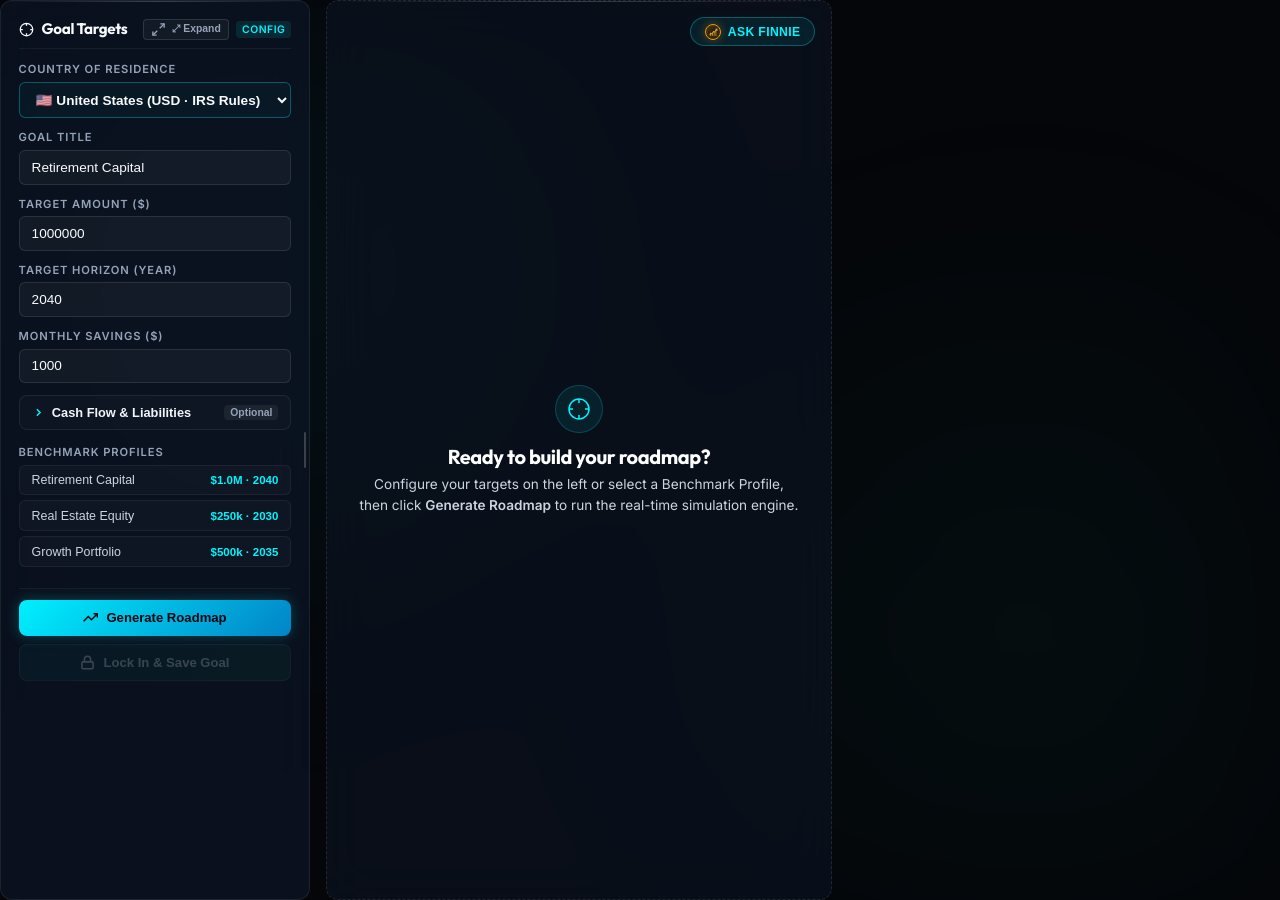
Scenario: GoalPlannerFlow Integration Tests › renders Roadmap, ThoughtStream, Lock-in button, and Micro-Chat upon calculation
The width and height of the screenshot is (1280, 900).
Step 1. Click the button "Generate Roadmap" → (155, 618), box left=19, top=600, right=291, bottom=636
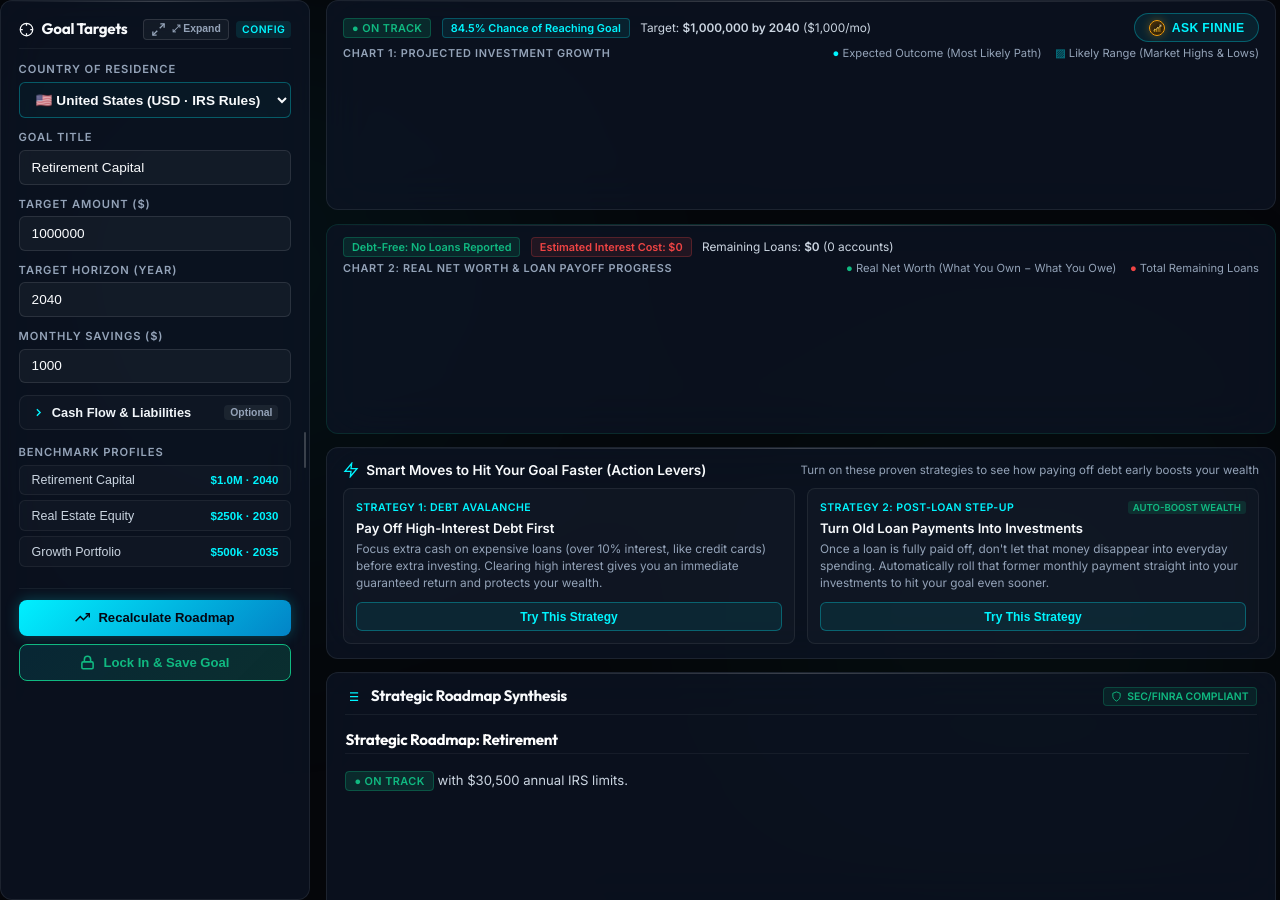
Expected: the button "Lock In & Save Goal" is shown, left=19, top=644, right=291, bottom=681
Note: Open Ask Finnie assistant drawer
Step 2. Click the button "$ Ask Finnie" → (1197, 28), box left=1134, top=13, right=1259, bottom=42
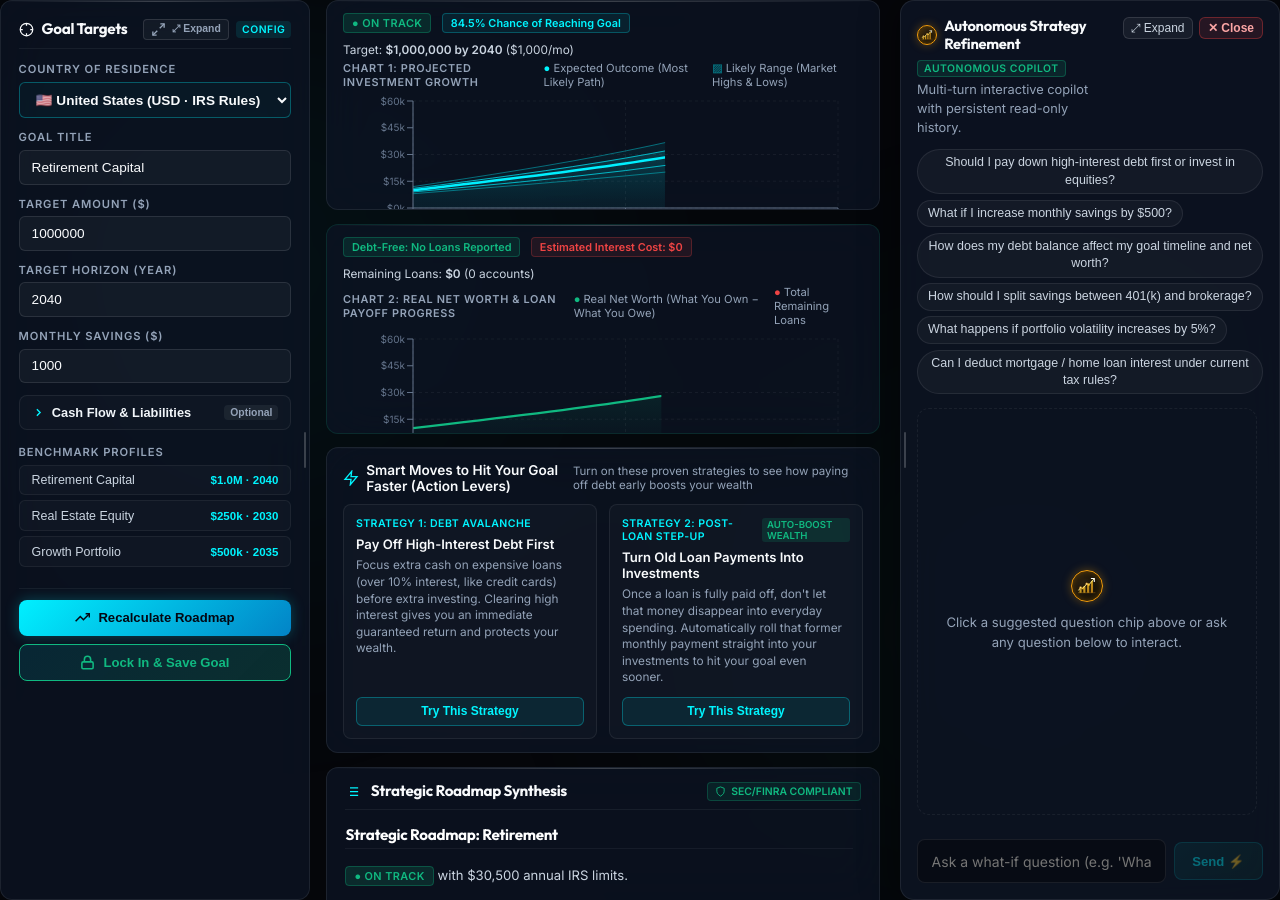
Expected: the heading "$ Autonomous Strategy Refinement" is shown, left=917, top=17, right=1115, bottom=52
Expected: the field with placeholder "Ask a what-if question" is shown, left=917, top=839, right=1166, bottom=883
